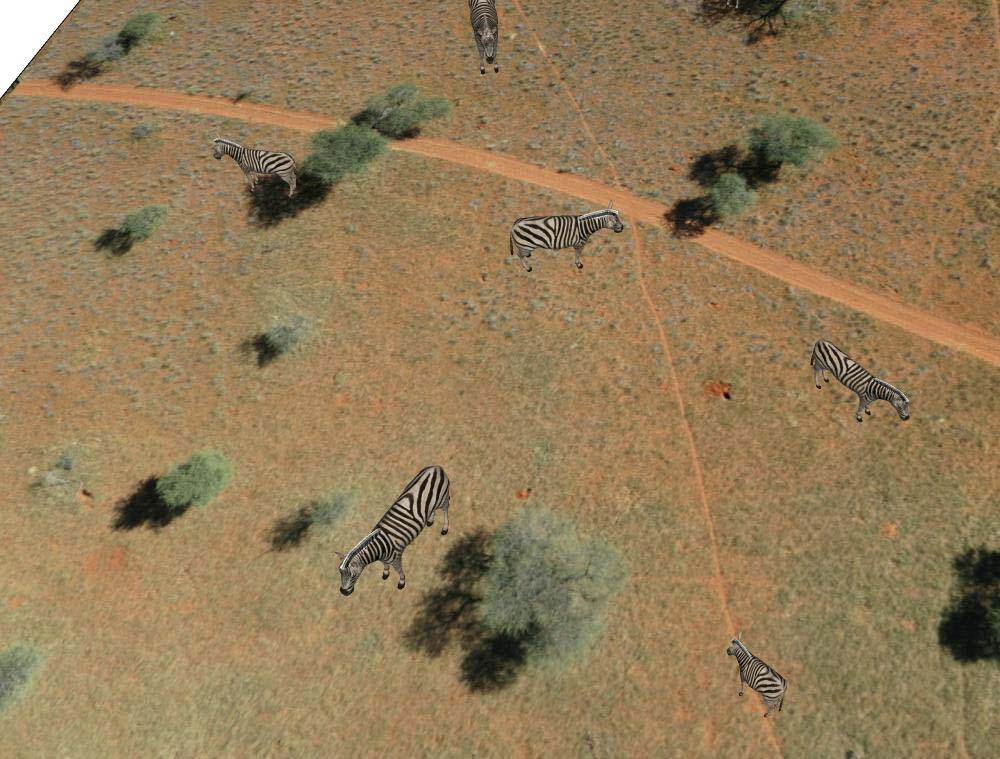zebra: (337, 461, 452, 604), (801, 334, 913, 439), (512, 205, 625, 280), (212, 127, 301, 208), (723, 634, 791, 723), (468, 1, 511, 78)
